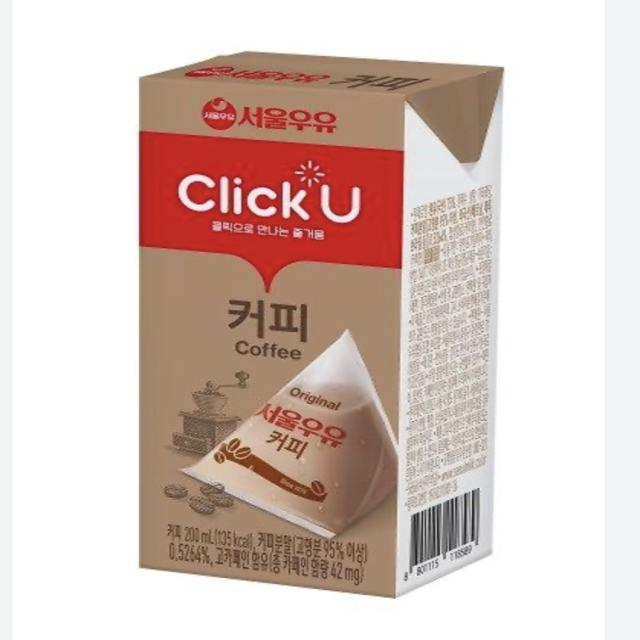biodegradable: (111, 28, 534, 613)
